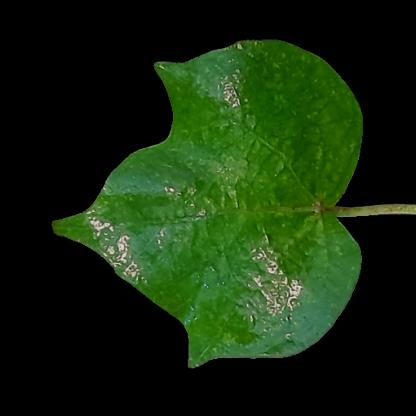healthy: (188, 82, 324, 332), (235, 46, 331, 152), (122, 178, 196, 278), (193, 322, 291, 360)
